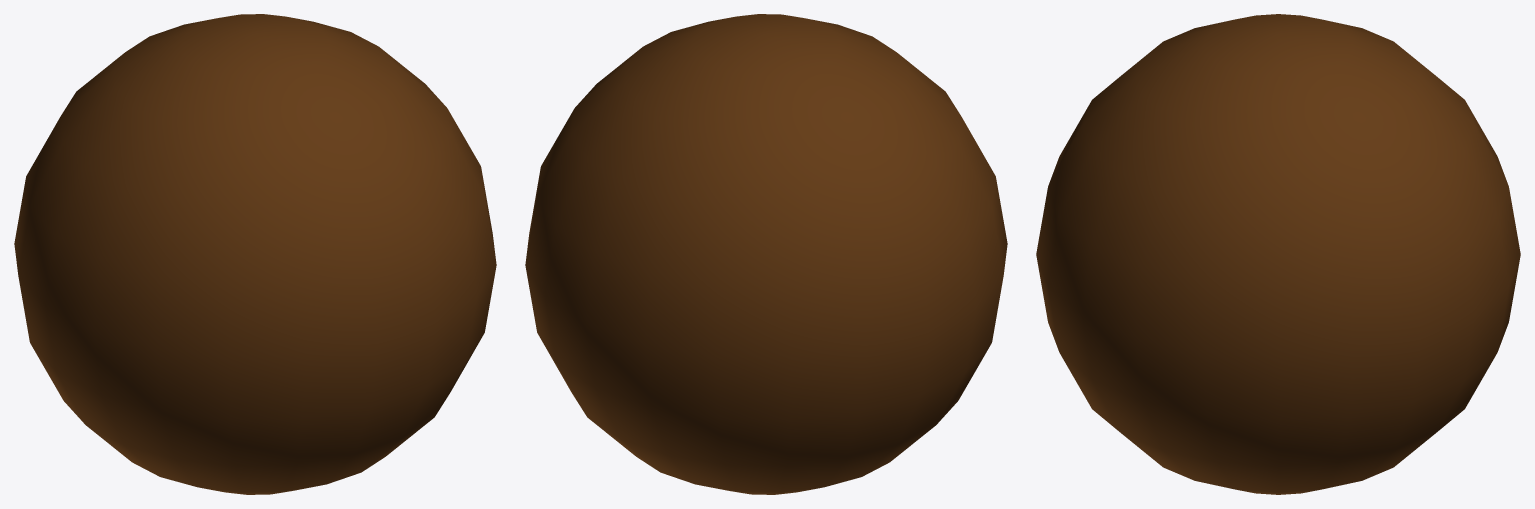
File: simple_ball.obj
3 renders of one model, left to right at view 1: azimuth 30°, elevation 25°; view 2: azimuth 150°, elevation 25°; view 3: azimuth 270°, elevation 25°, orthographic.
Parts seen in each view (by area): view 1: pSphere1; view 2: pSphere1; view 3: pSphere1.
Part boxes in pixels (box(x1,y1,x2,y2)): pSphere1: box(14, 14, 496, 494); pSphere1: box(525, 14, 1007, 494); pSphere1: box(1036, 14, 1520, 494).
Bounding box in the file's own units: 5.53 × 5.53 × 5.53.
